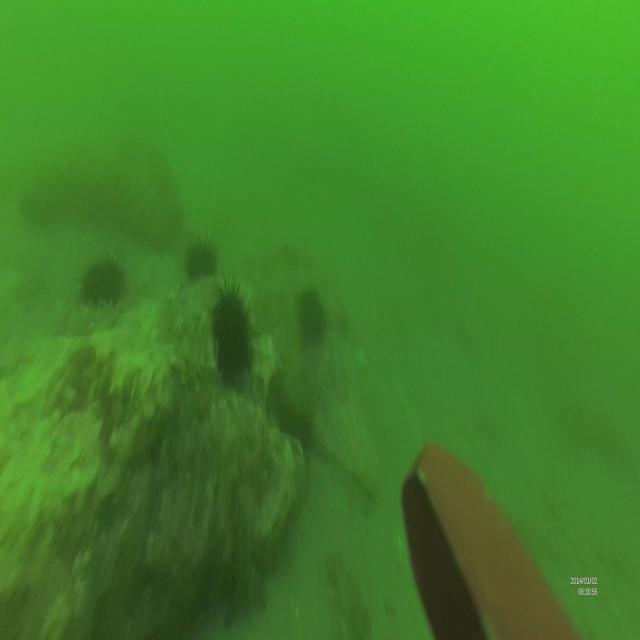echinus: (210, 281, 253, 394), (83, 254, 126, 308), (295, 286, 329, 342), (184, 236, 222, 280)
starfish: (251, 333, 280, 396)
